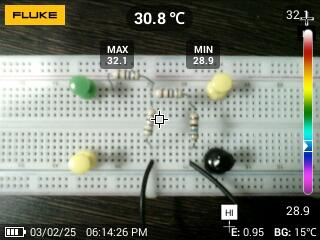resistor: (141, 106, 158, 141), (152, 85, 185, 101), (187, 110, 201, 145), (110, 70, 142, 85)
